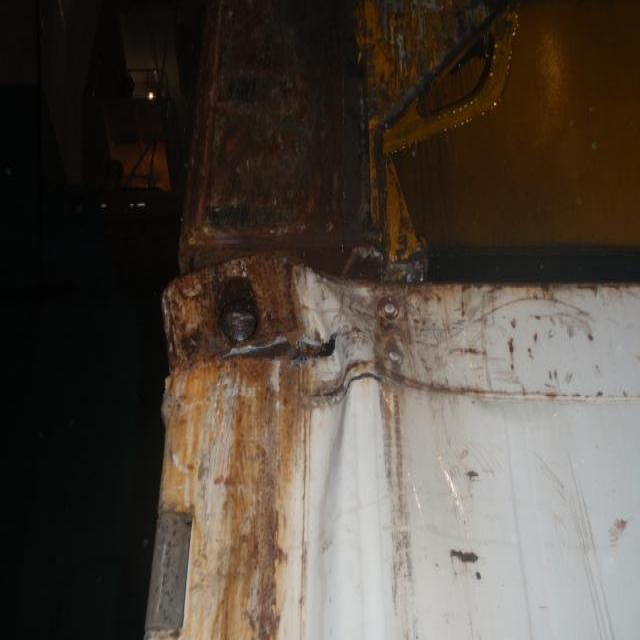dent: (153, 234, 402, 449)
